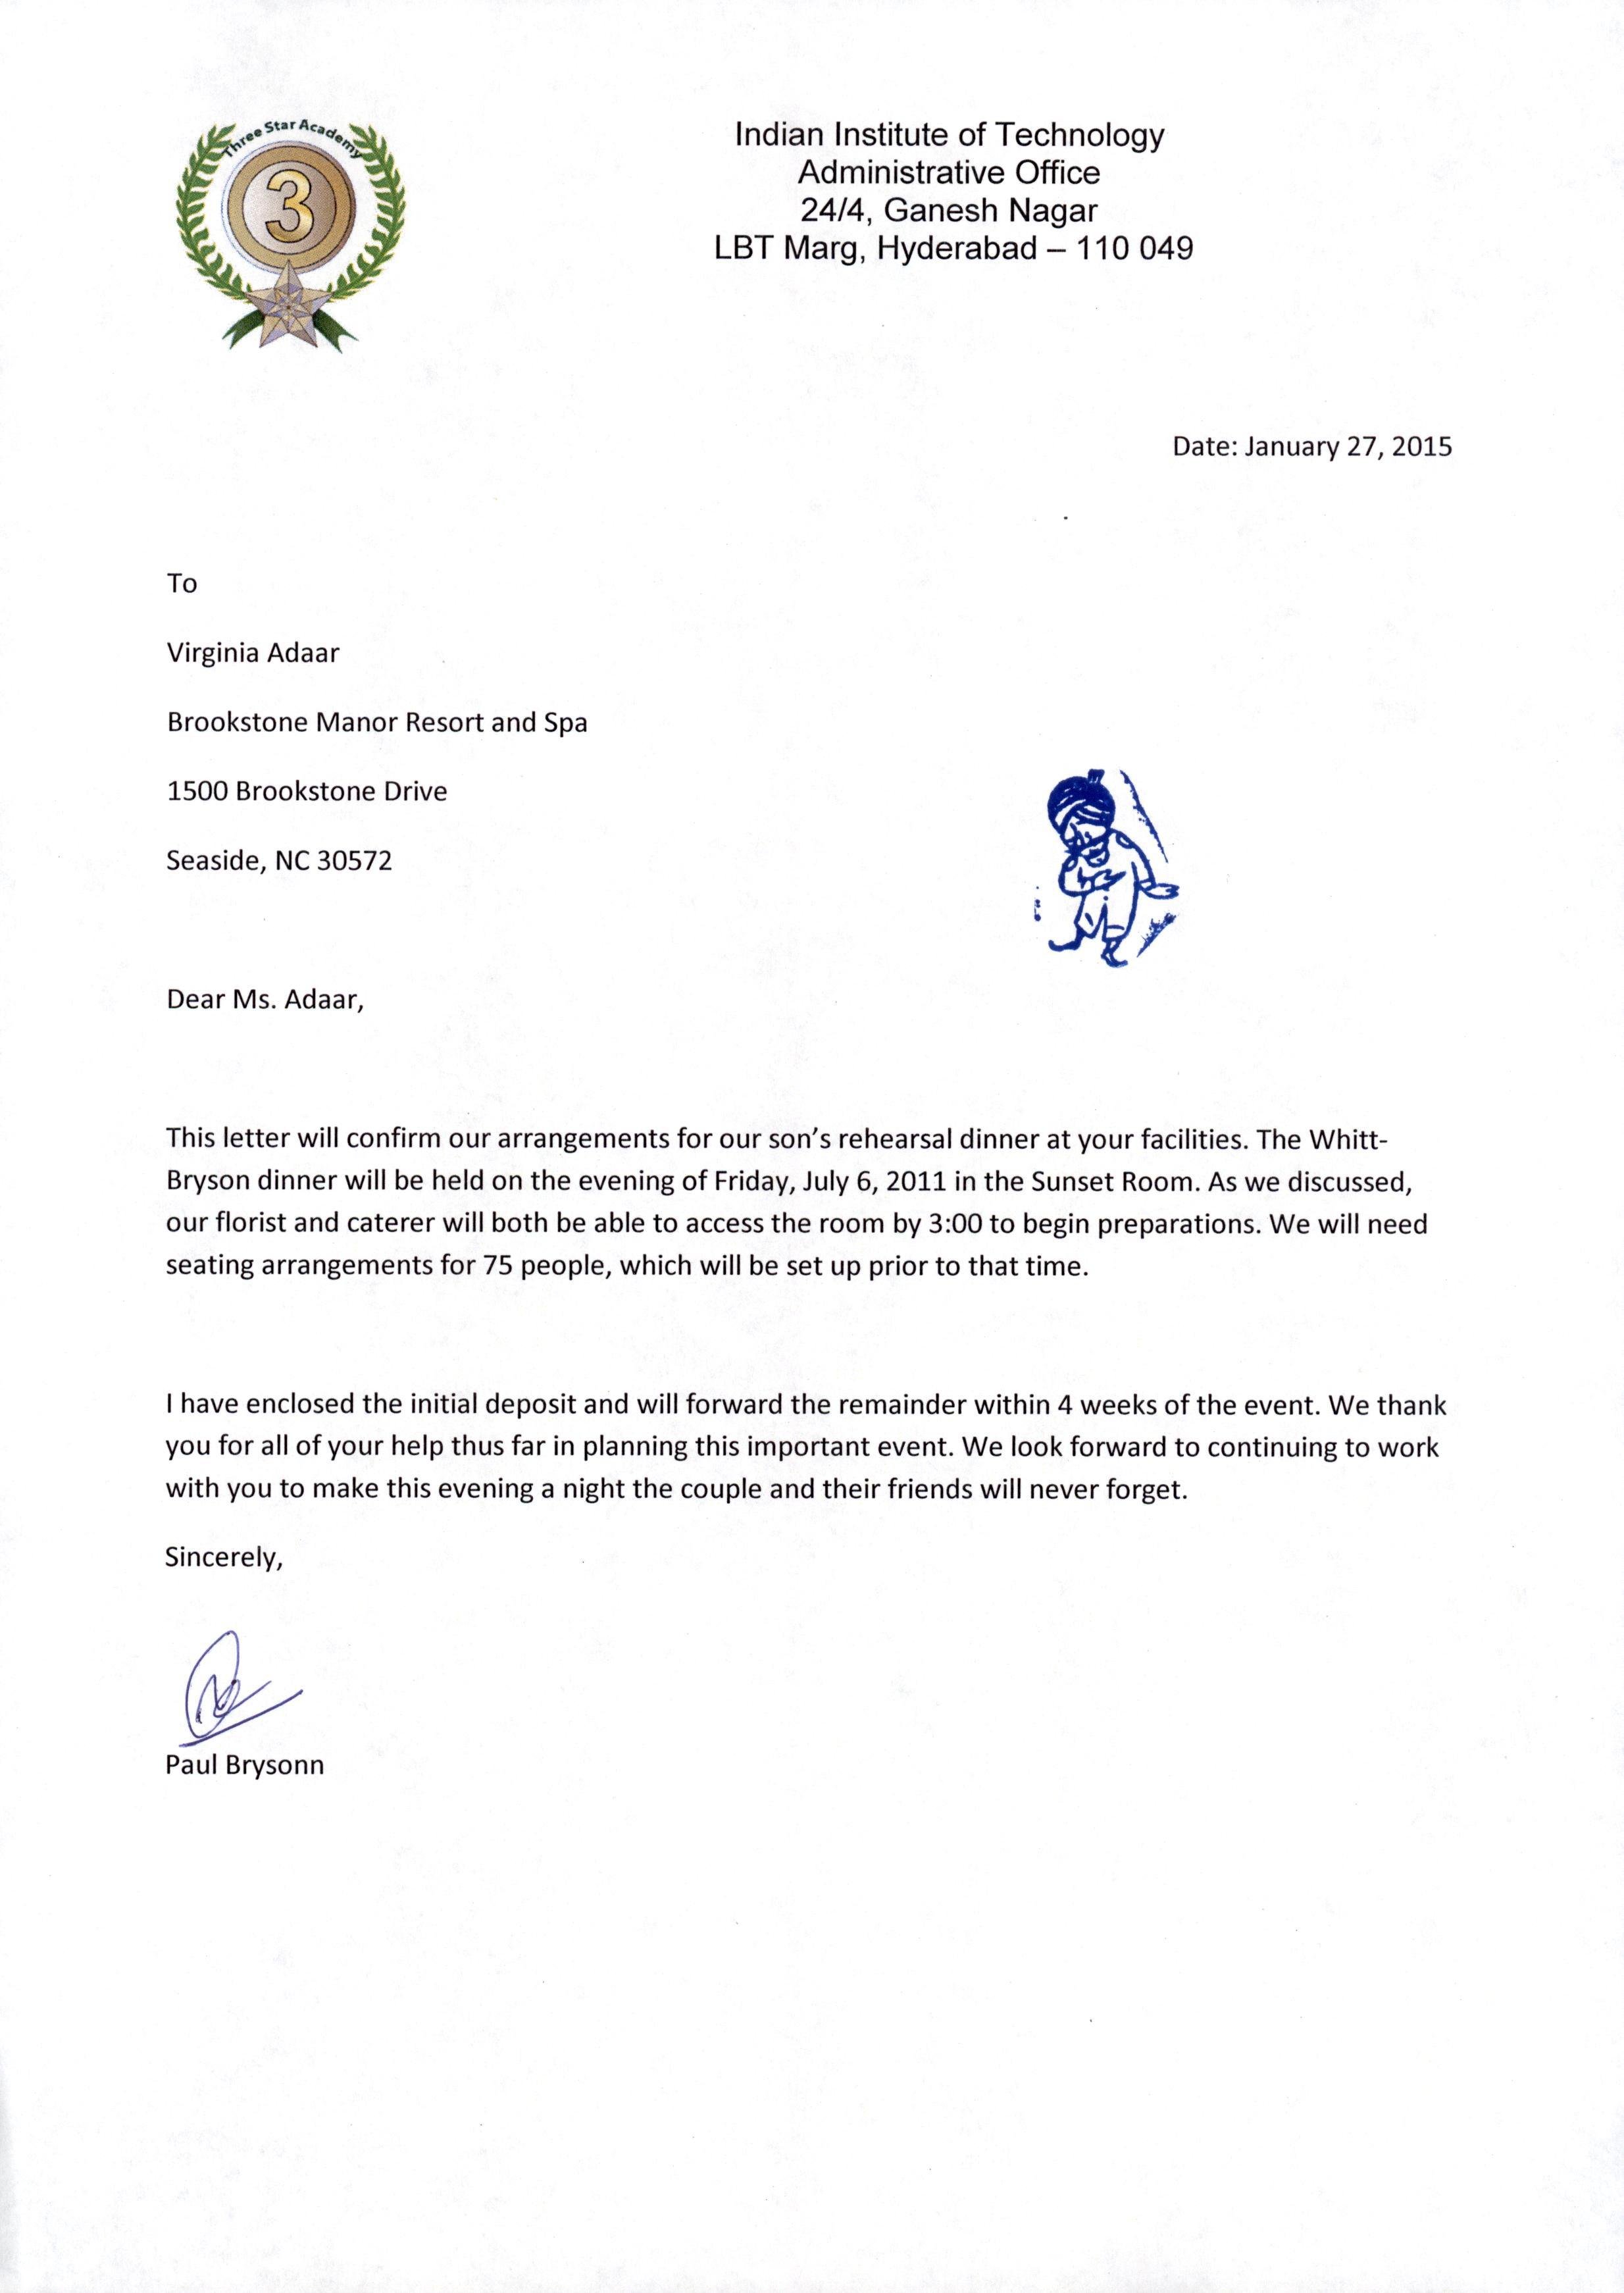Signature: (169, 1618, 308, 1754)
